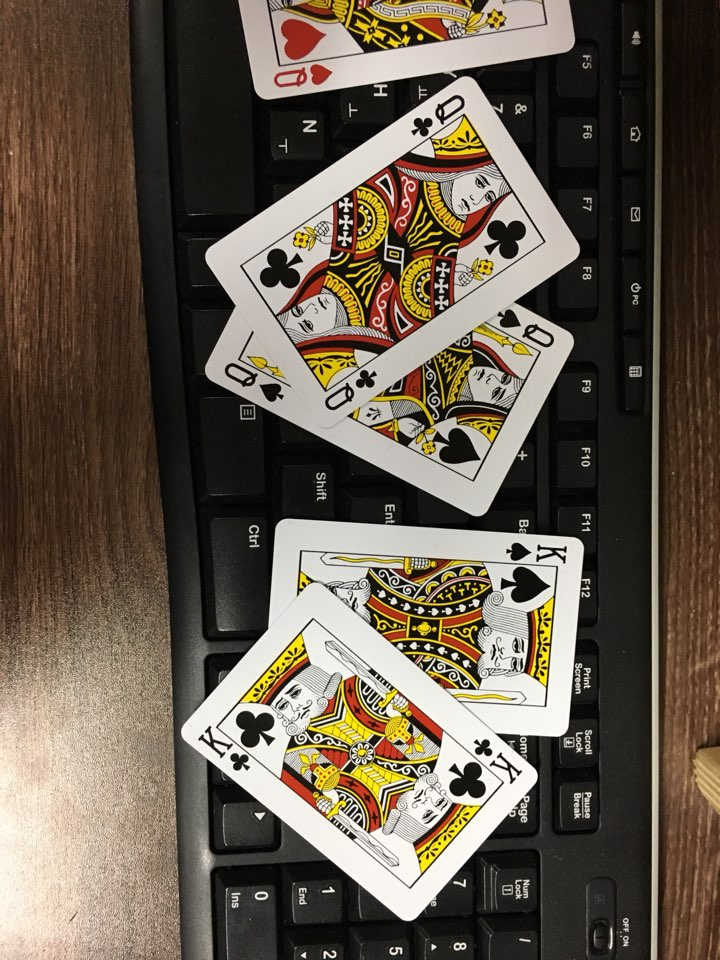king: (165, 572, 549, 949), (242, 484, 599, 765)
queen: (191, 65, 599, 444), (209, 179, 578, 531), (211, 1, 603, 122)
